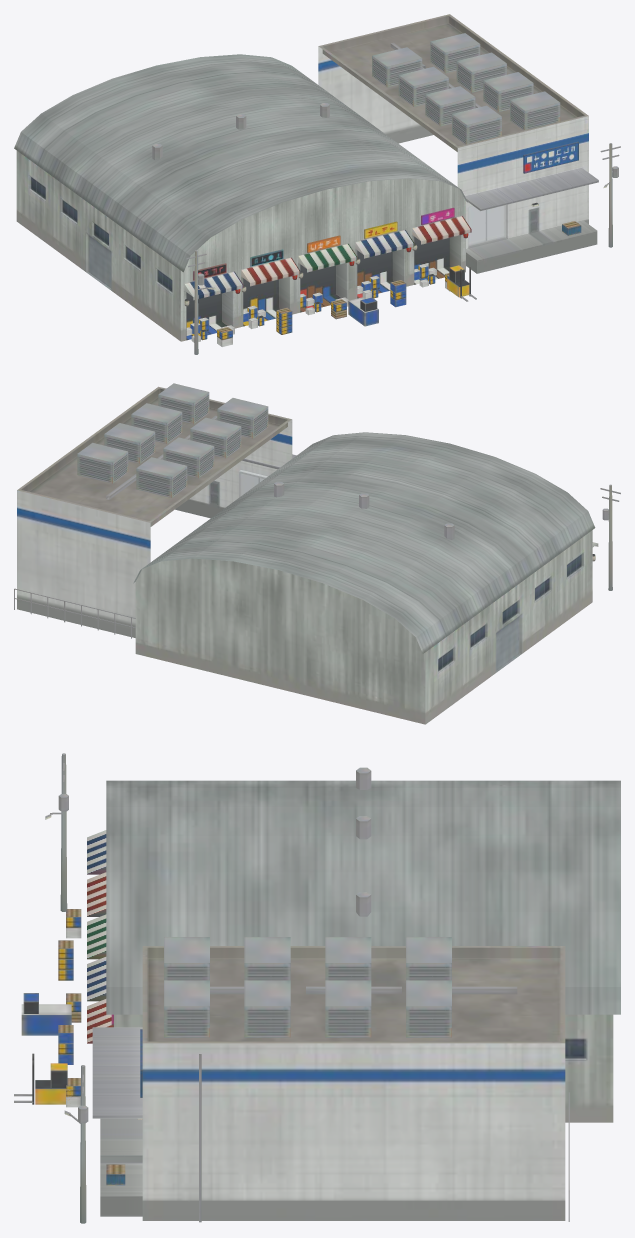
The model's file is tokyo_warehouse_b.glb.
3 renders of one model, top to bottom at view 1: azimuth 30°, elevation 25°; view 2: azimuth 150°, elevation 25°; view 3: azimuth 270°, elevation 25°, orthographic. The views are drawn at different scales.
Parts seen in each view (by area): view 1: tokyo_warehouse_b; view 2: tokyo_warehouse_b; view 3: tokyo_warehouse_b.
Part boxes in pixels (x1,y1,x2,y2): tokyo_warehouse_b: (14, 14, 620, 354); tokyo_warehouse_b: (14, 383, 620, 724); tokyo_warehouse_b: (14, 753, 620, 1223).
Size of the model in its own units: 40.2 by 11.4 by 31.6.
Materials: 1 (1 with a texture image).
